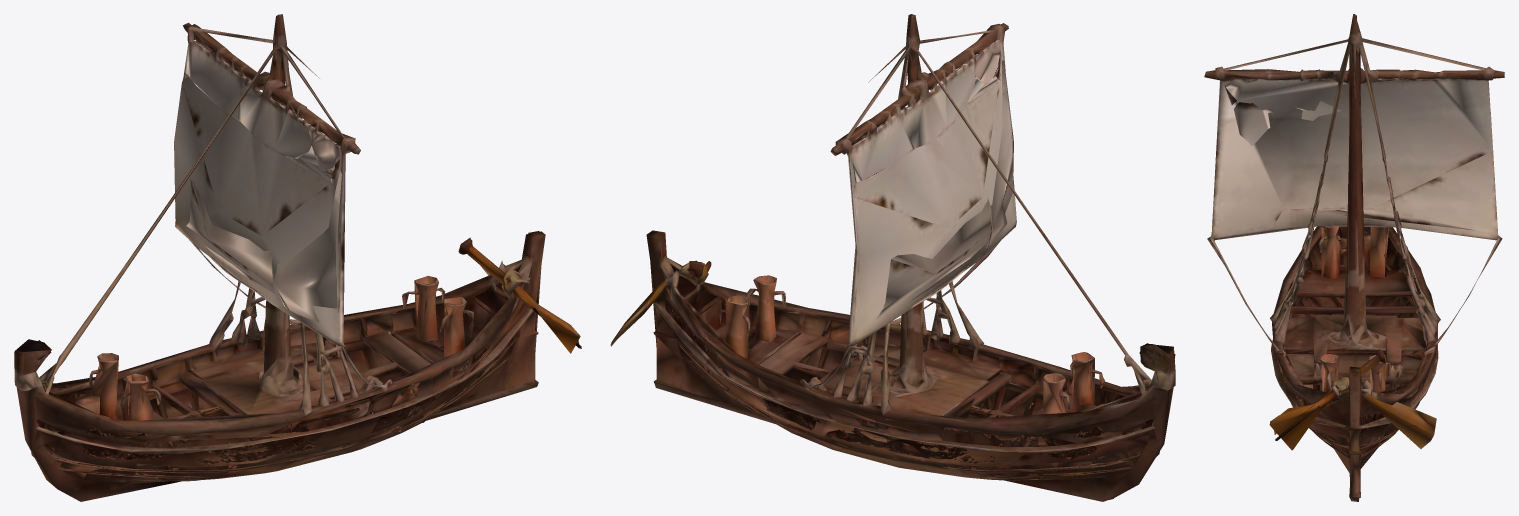
Rendered from baetulo-barco.glb.
3 renders of one model, left to right at view 1: azimuth 30°, elevation 25°; view 2: azimuth 150°, elevation 25°; view 3: azimuth 270°, elevation 25°, orthographic. The views are drawn at different scales.
Parts seen in each view (by area): view 1: geometry_0; view 2: geometry_0; view 3: geometry_0.
Part boxes in pixels (<box>): geometry_0: <box>14,14,581,501</box>; geometry_0: <box>610,14,1175,501</box>; geometry_0: <box>1204,14,1504,501</box>.
Size of the model in its own units: 0.9975 by 0.8072 by 0.5662.
Materials: 1 (1 with a texture image).
